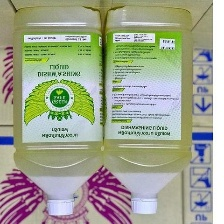cleaning_solution: (9, 4, 110, 217), (99, 2, 197, 217)
